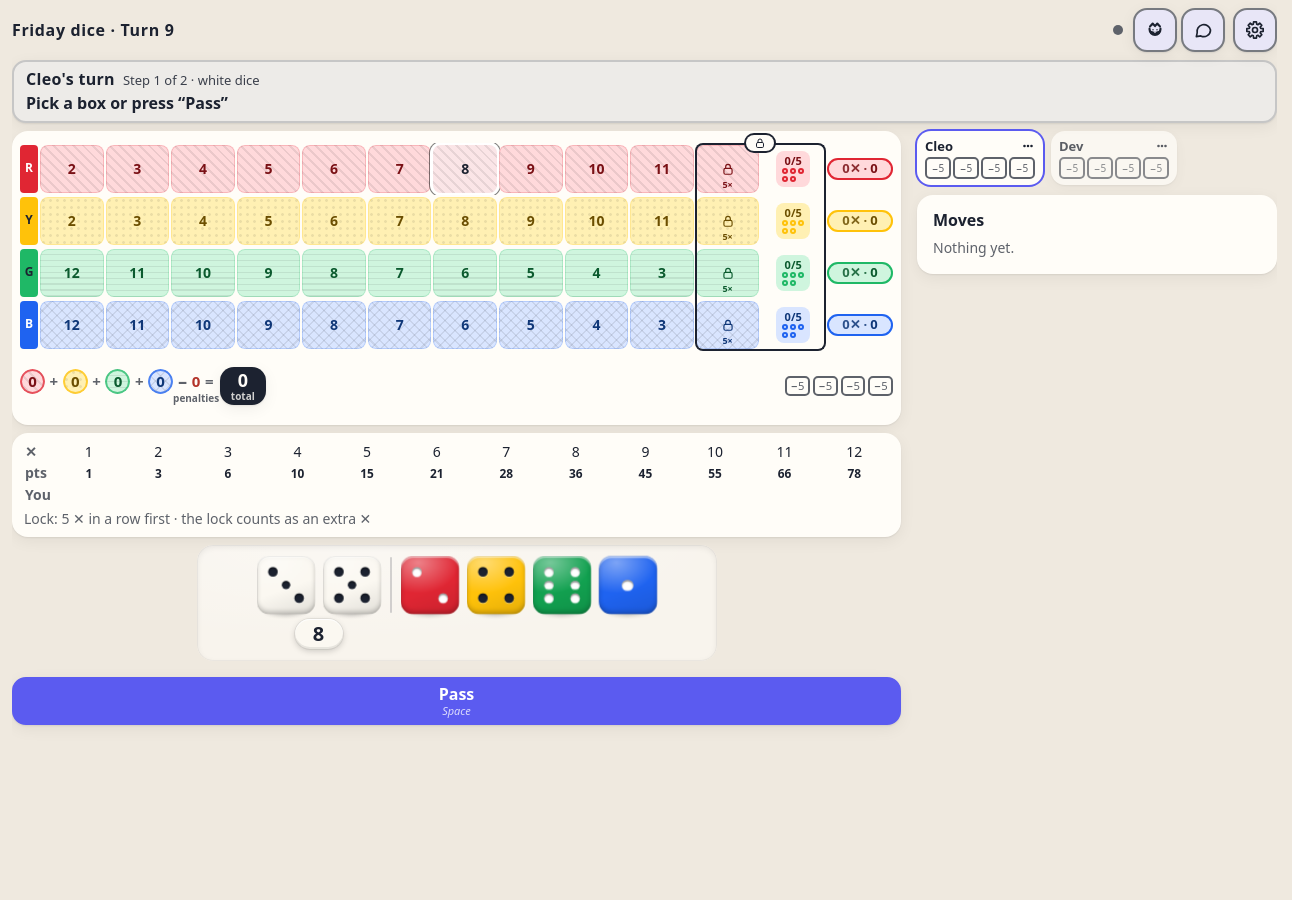
step number markers (T-NEW-14) › non-active players never see numbers
The width and height of the screenshot is (1292, 900).
Click the button named "Red 8, can mark" at (465, 169), box [434, 145, 497, 193]
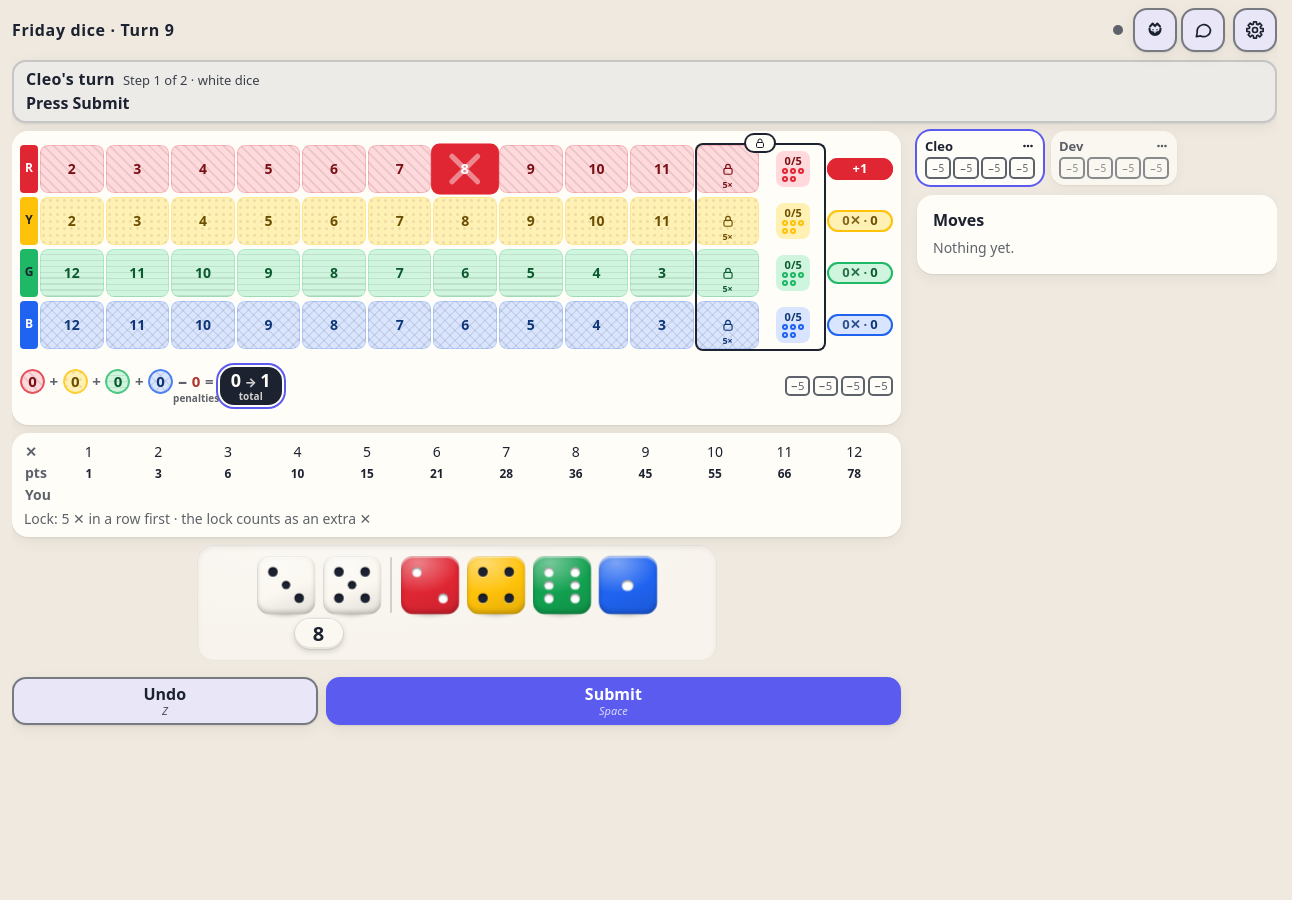
Check: the button named "Red 8, can mark" is pressed, box [432, 143, 499, 194]
